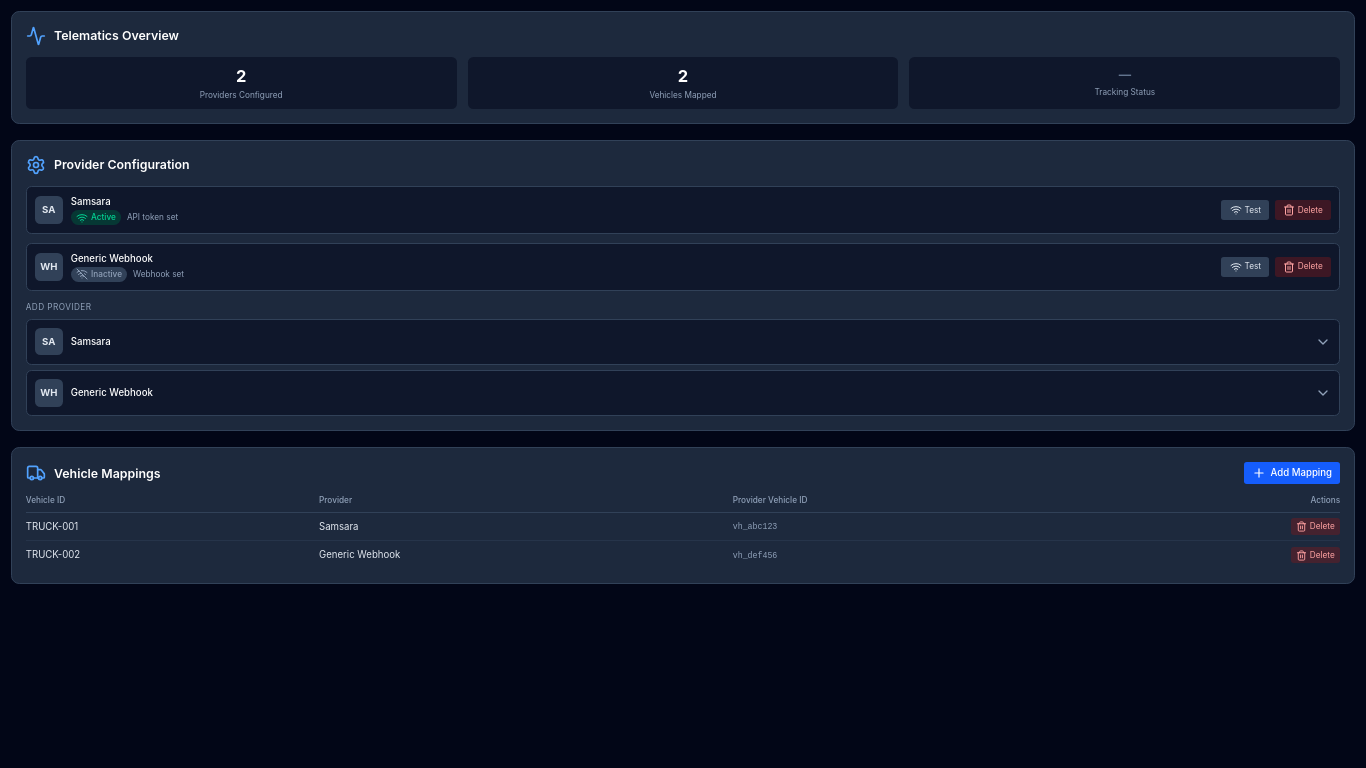
Test case: TelematicsSetup › connection test results (R-TELEM-05) › shows latency in ms after successful test
The width and height of the screenshot is (1366, 768).
Click the button with test id "test-btn-cfg-1": coordinates (1245, 210) [1222,200,1269,220]
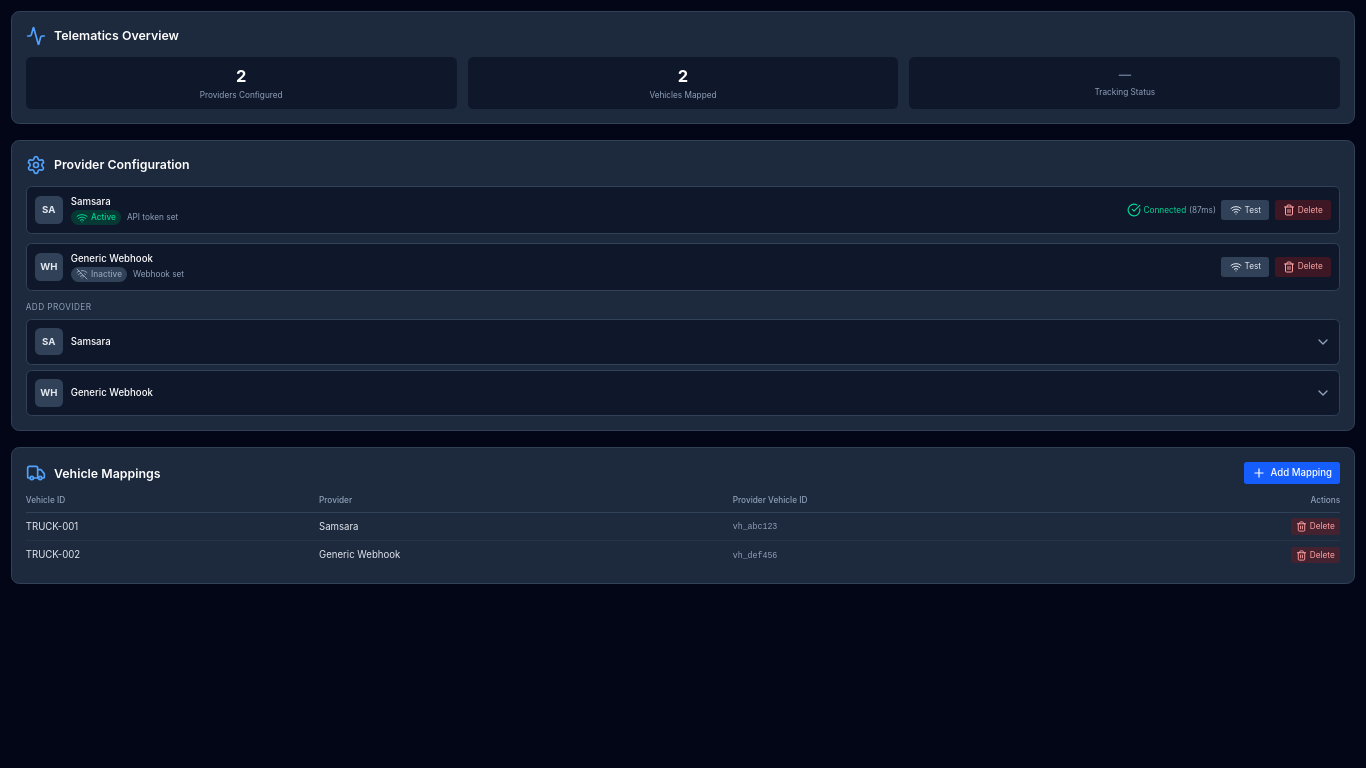
Now the text "(87ms)" is shown, box [1189,205,1216,216]
